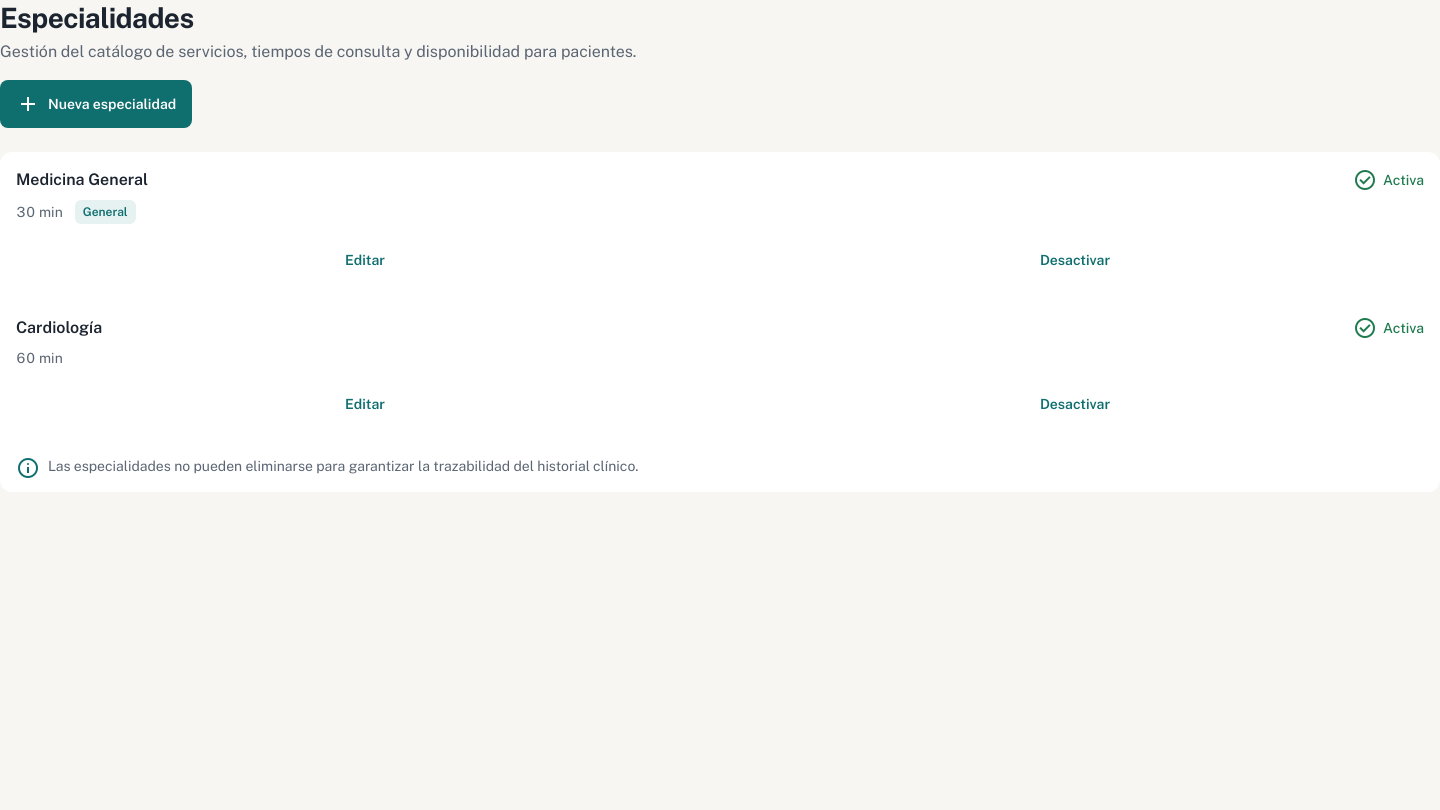
Test: SpecialtiesPage (HU-006) › HU-006 CA-01 un nombre repetido (409) se marca en el campo Nombre
Step 1. Click the button "Nueva especialidad" → (96, 104), box [0,80,192,128]
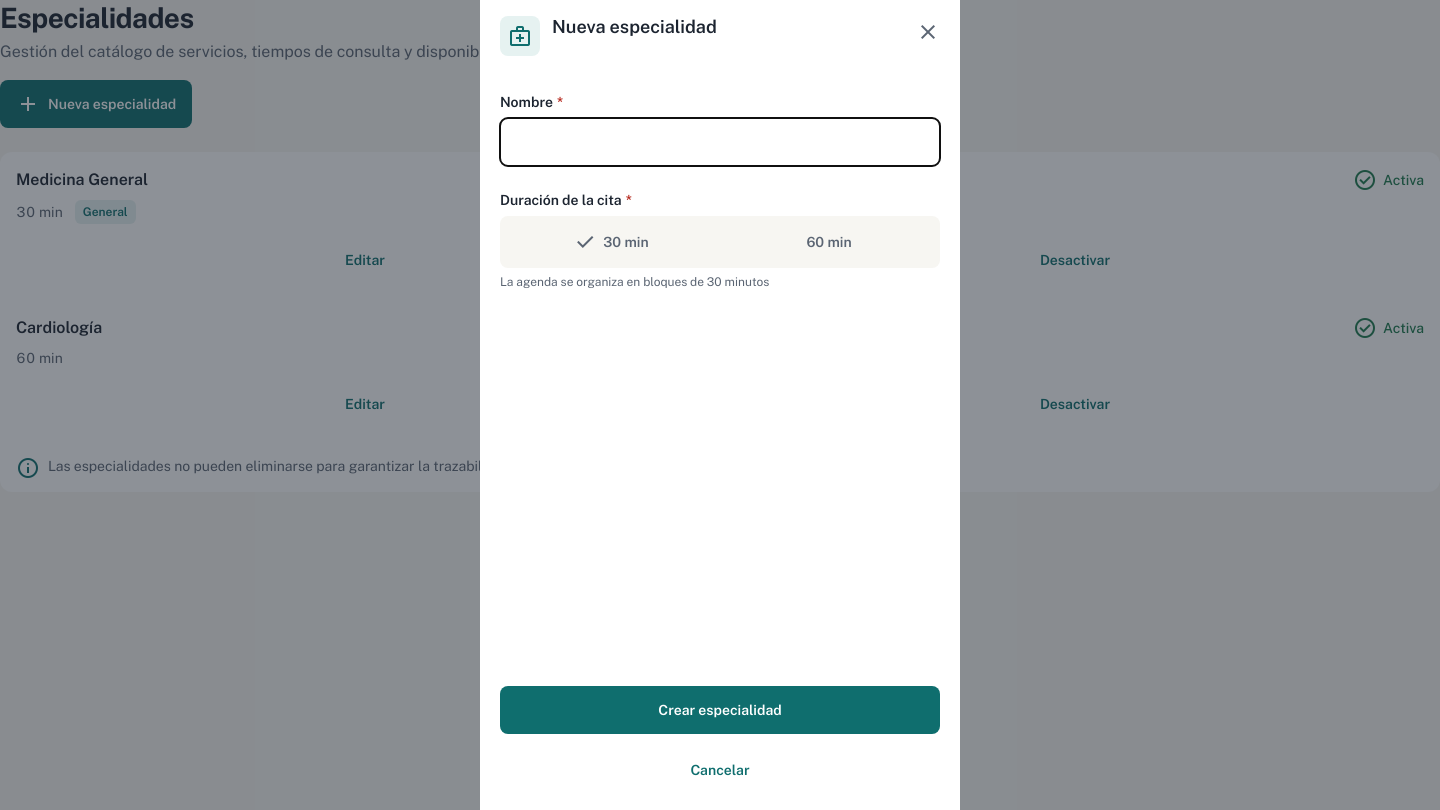
Step 2. Type "Cardiología" into the field labelled "Nombre*" → (720, 142), box [500,118,940,166]
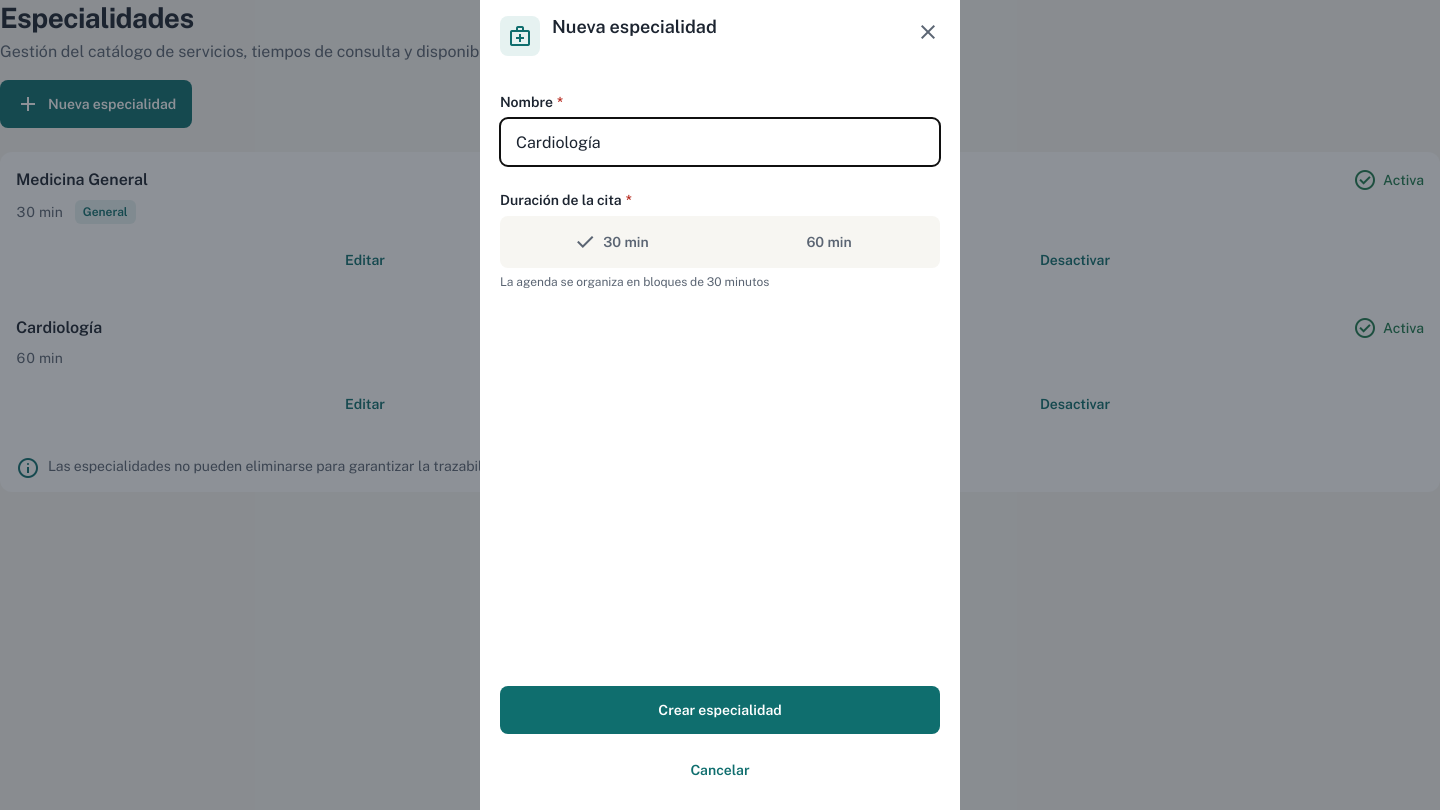
Step 3. Click the button "Crear especialidad" → (720, 710), box [500,686,940,734]
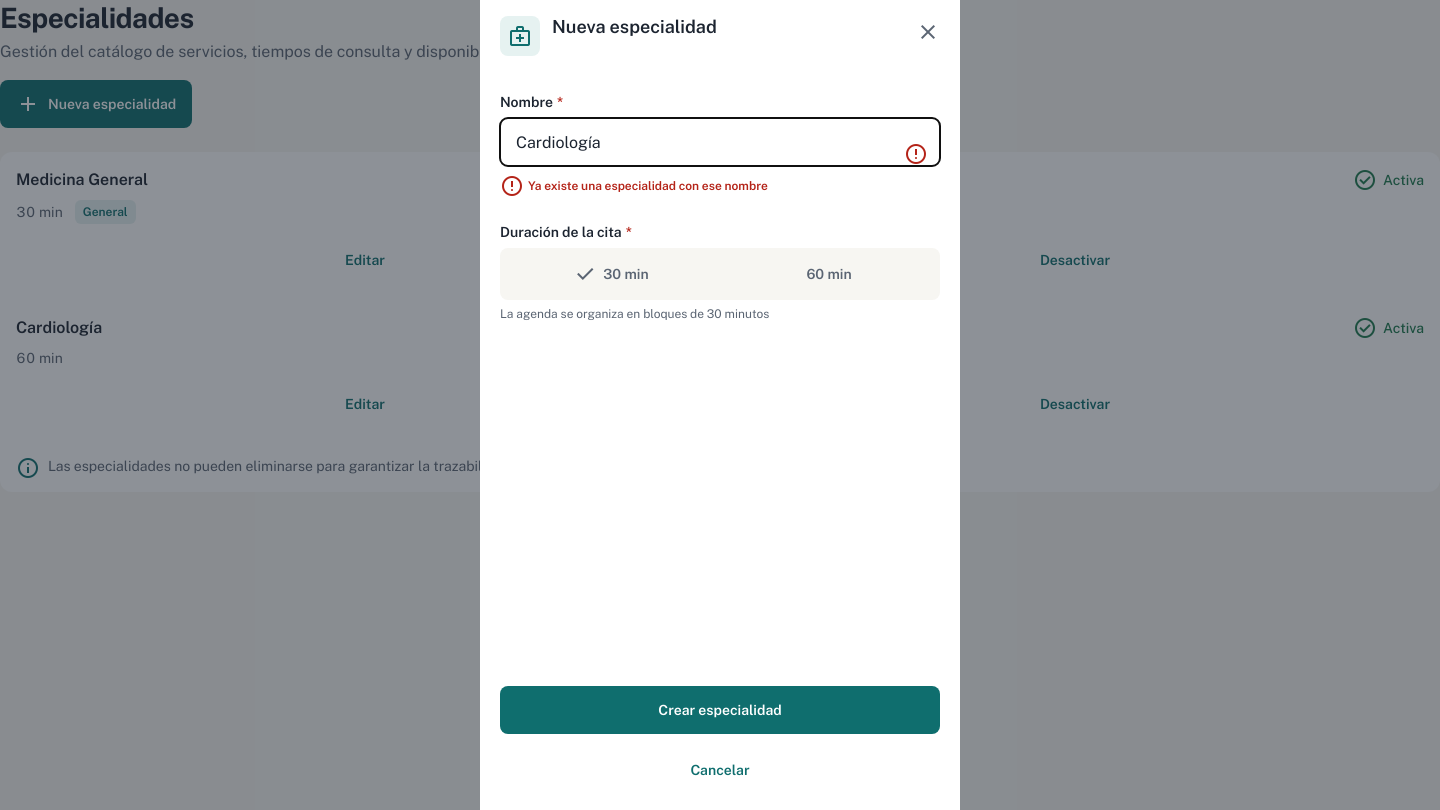
Check: the dialog is shown, box [480,0,960,809]
Check: the text "Ya existe una especialidad con ese nombre" is shown, box [528,178,768,194]
